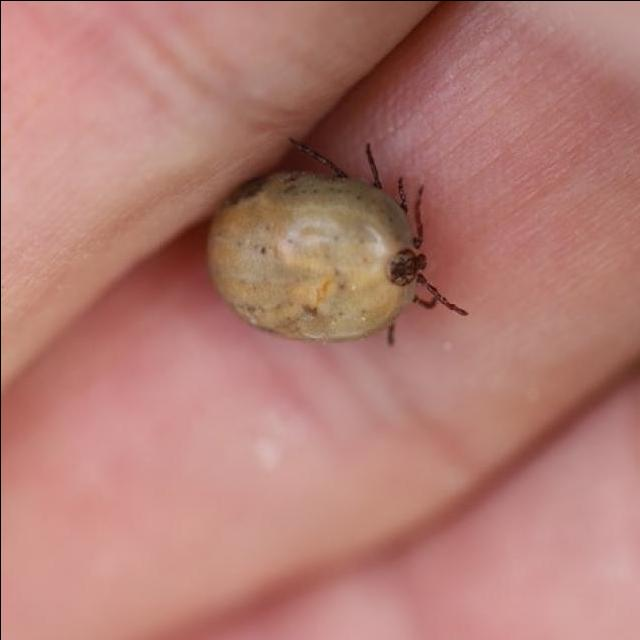Dermacentor Reticulatus-F-Fed: (204, 137, 465, 346)
